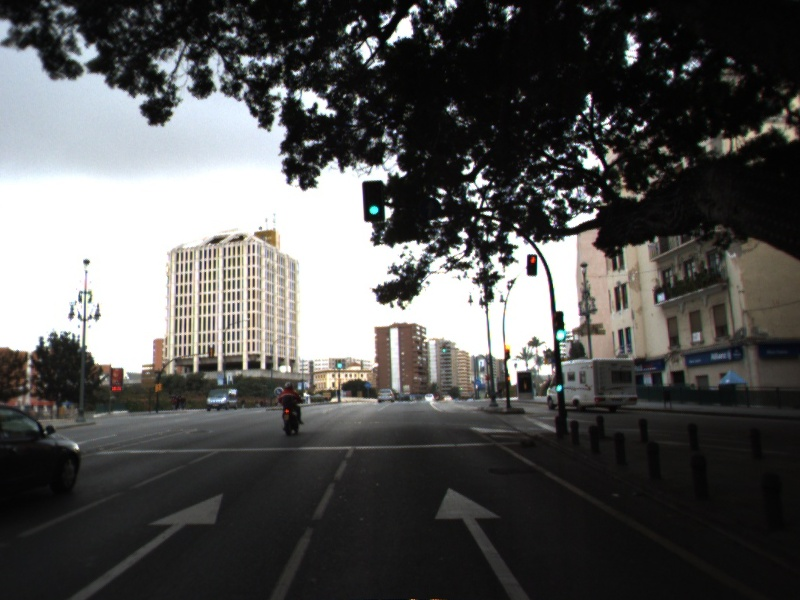STRAIGHT: (65, 487, 227, 600), (430, 484, 536, 600)
